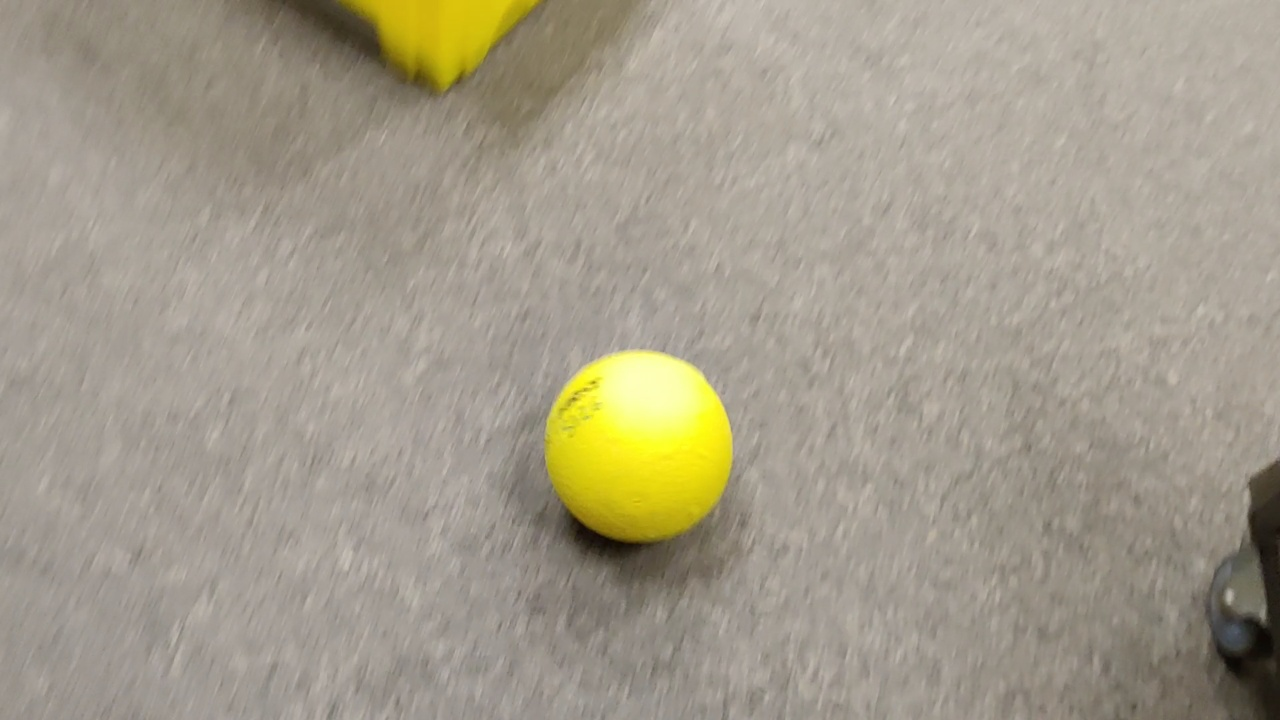Ball: (544, 351, 739, 545)
